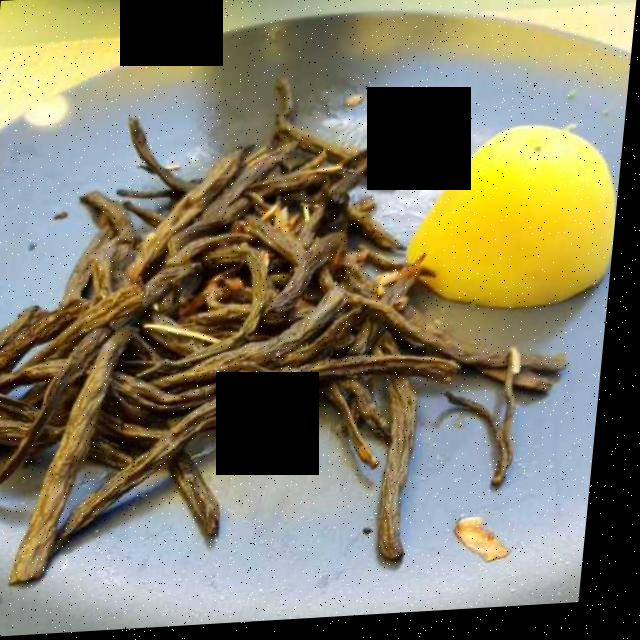french-beans: (0, 131, 547, 575)
lemon: (395, 116, 616, 316)
